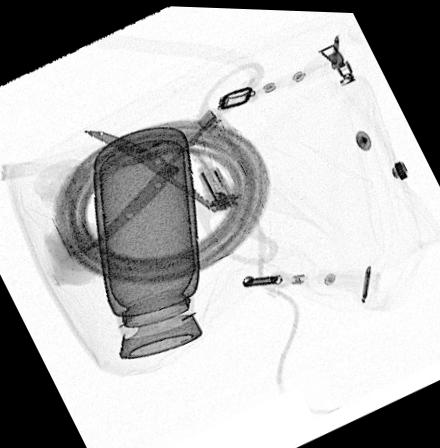Scissors: (79, 58, 279, 264)
